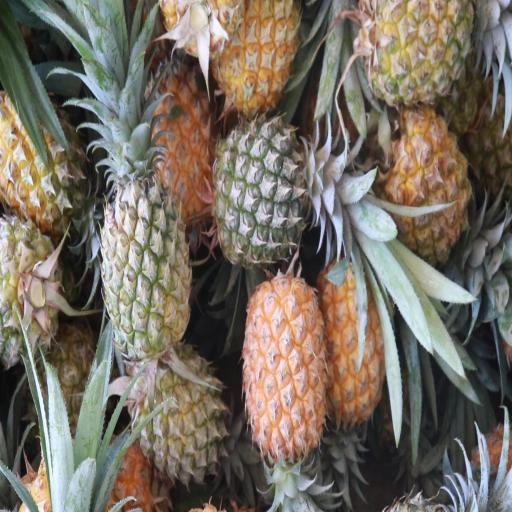------------------------------: (97, 149, 190, 346), (136, 346, 228, 479), (2, 88, 82, 220), (368, 0, 471, 93)
Pineapple - v8 v1: (243, 269, 326, 454), (384, 100, 473, 252), (320, 251, 390, 415), (145, 63, 217, 216), (217, 0, 303, 101)
